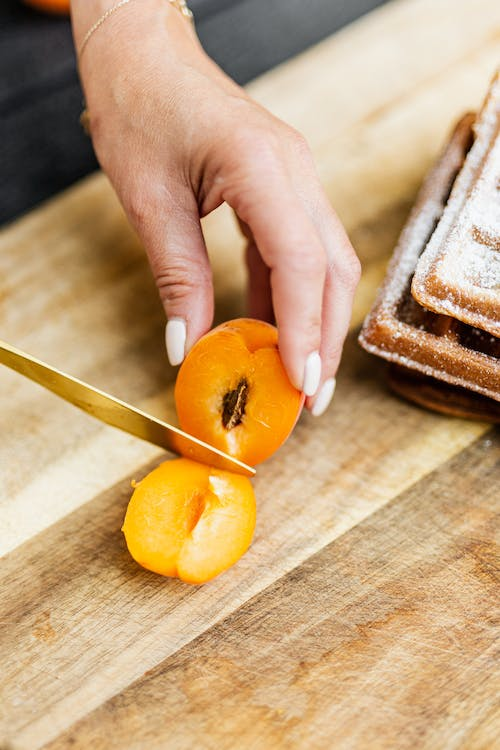knife: (0, 338, 260, 477)
